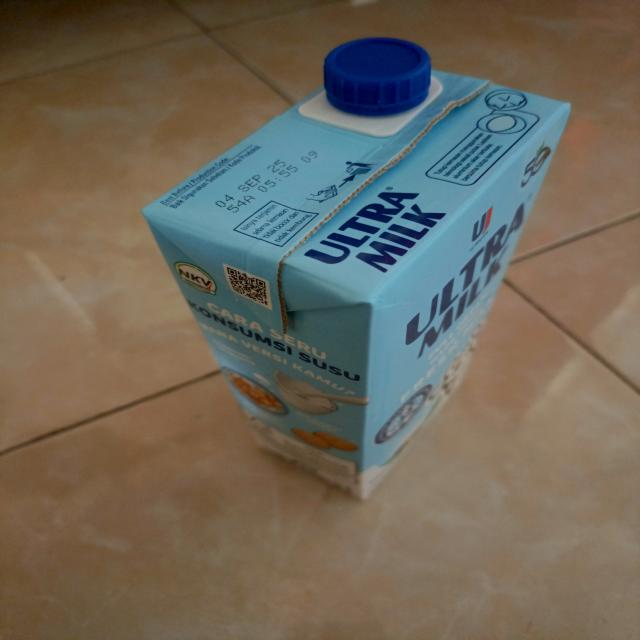ultramilk-full-cream: (139, 36, 576, 503)
